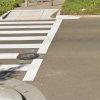Crosswalk: (4, 3, 54, 87)
